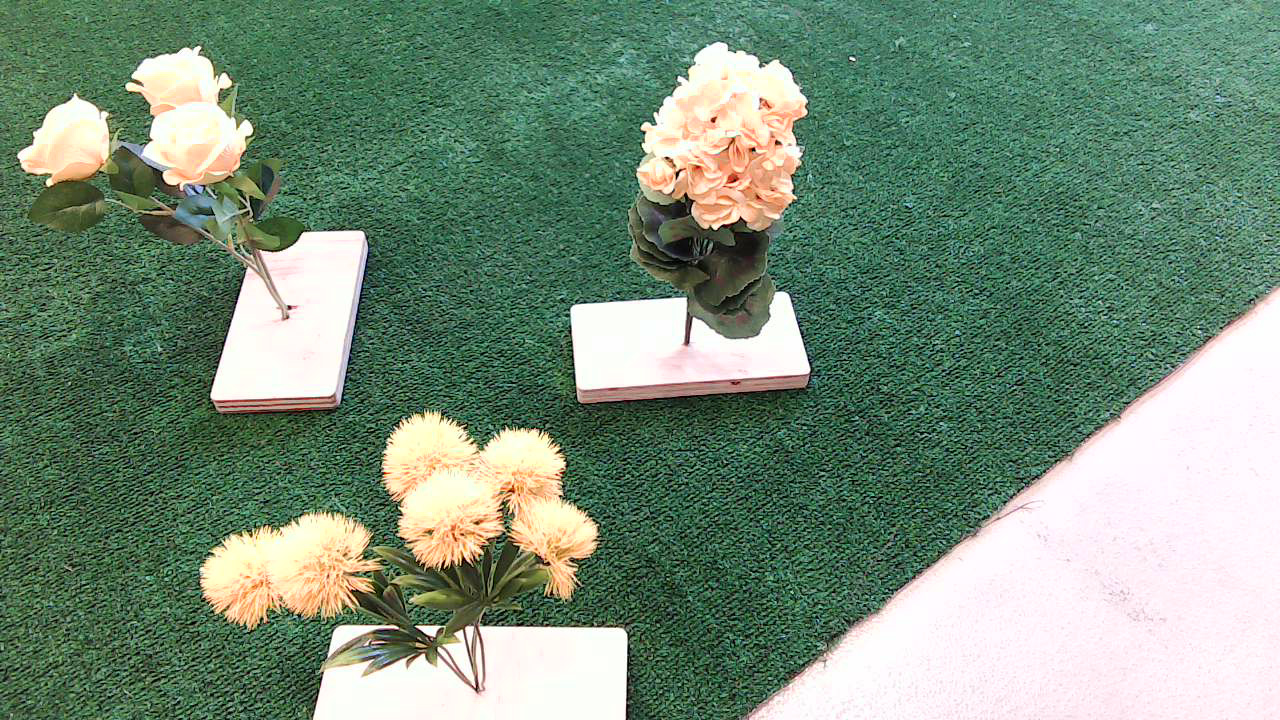dandelion: (188, 416, 612, 668)
geranium: (602, 38, 829, 357)
rose: (10, 48, 342, 351)
